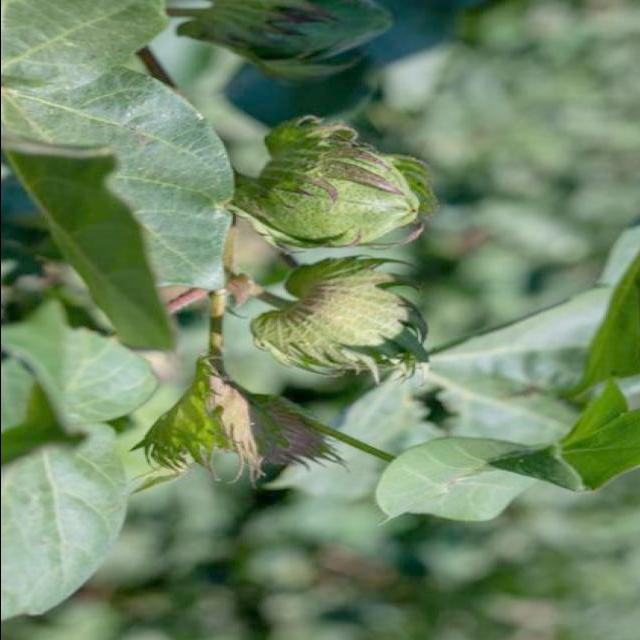Cotton Bud: (262, 255, 440, 385), (142, 384, 344, 496)
Early Boll: (262, 118, 422, 248)
